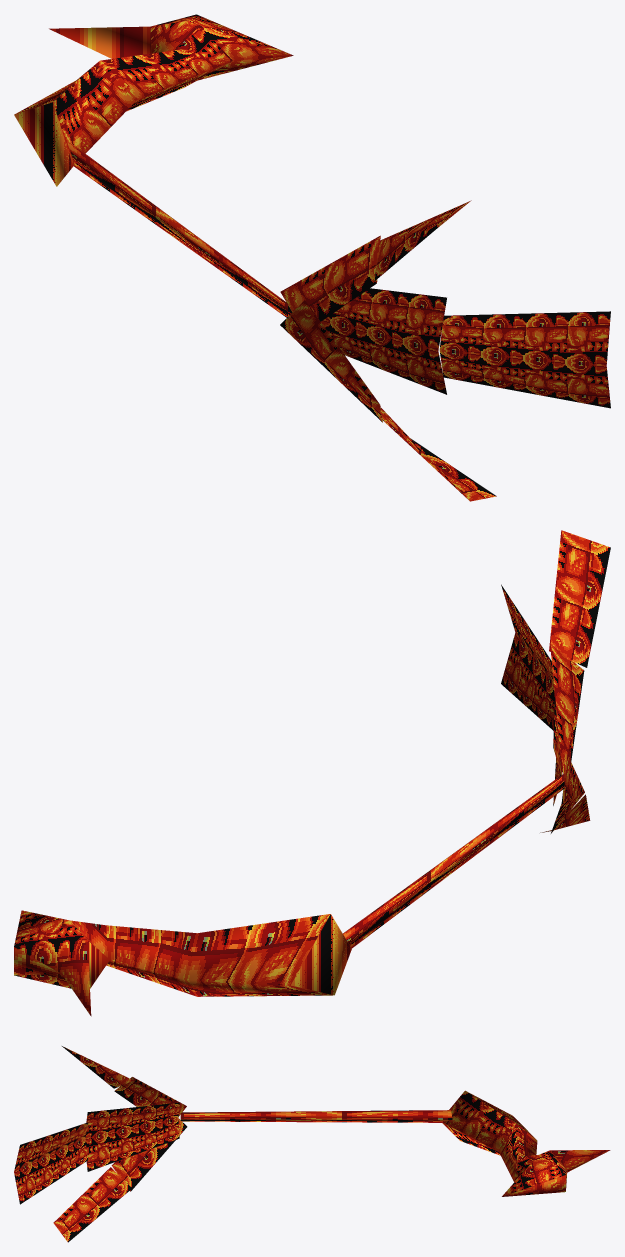
Rendered from 2724sbim03_17.gltf.
The picture shows the model from 3 angles, top to bottom: view 1: azimuth 30°, elevation 25°; view 2: azimuth 150°, elevation 25°; view 3: azimuth 270°, elevation 25°; orthographic projection. The views are drawn at different scales.
Parts seen in each view (by area): view 1: 2724sbim03_17; view 2: 2724sbim03_17; view 3: 2724sbim03_17.
Boxes of the visible parts, x1,y1,x2,y2 form: 2724sbim03_17: [14, 14, 610, 501]; 2724sbim03_17: [14, 530, 610, 1016]; 2724sbim03_17: [14, 1046, 610, 1242].
Size of the model in its own units: 0.7766 by 0.8259 by 2.41.
Materials: 1 (1 with a texture image).
